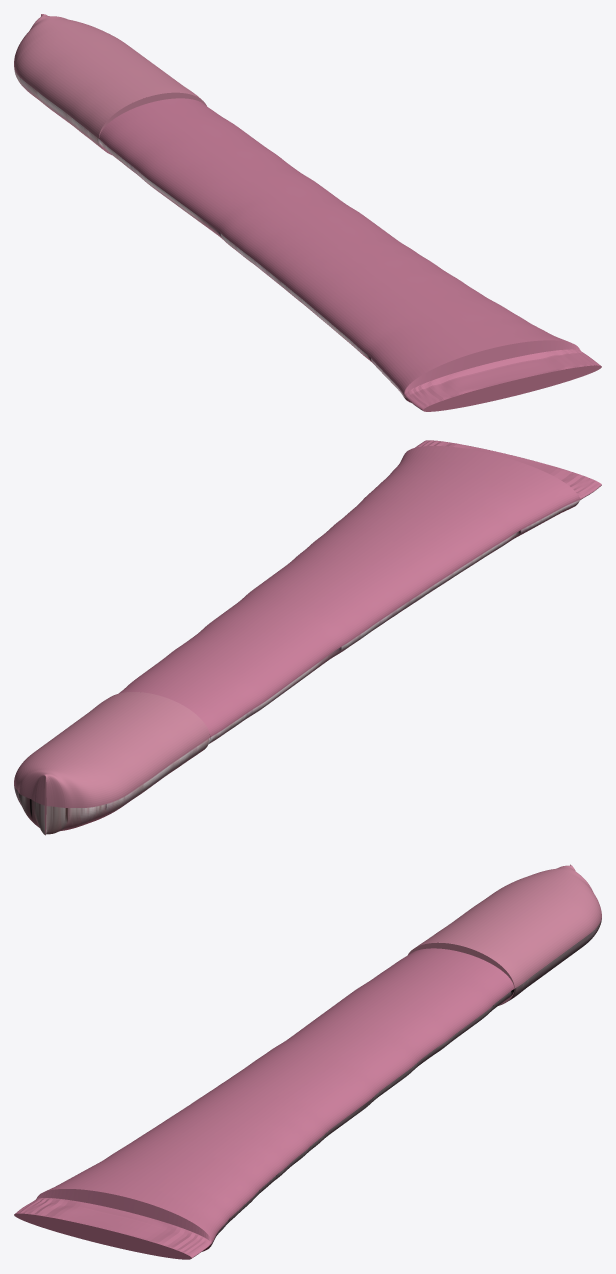
The model's file is rhode_peptide_lip_tint_3d.glb.
3 views of the same model, one above another, from view 1: azimuth 30°, elevation 25°; view 2: azimuth 150°, elevation 25°; view 3: azimuth 330°, elevation 25° (orthographic).
Visible parts, largest first — view 1: tube_reverse, cap_reverse, tube_top_closure, tube_front_photo, cap_front_photo, cap_top_closure; view 2: tube_reverse, cap_reverse, cap_front_photo, tube_front_photo; view 3: tube_reverse, cap_reverse, tube_top_closure, tube_front_photo, cap_front_photo, cap_top_closure.
Part boxes in pixels (x1,y1,x2,y2): tube_reverse: (99,98,600,410); cap_reverse: (14,14,200,138); tube_top_closure: (423,365,601,411); tube_front_photo: (99,139,594,410); cap_front_photo: (14,69,102,149); cap_top_closure: (99,92,206,154); tube_reverse: (119,440,601,737); cap_reverse: (14,692,209,807); cap_front_photo: (14,738,209,835); tube_front_photo: (209,485,601,743); tube_reverse: (15,948,514,1257); cap_reverse: (417,864,601,988); tube_top_closure: (14,1213,191,1259); tube_front_photo: (36,989,514,1257); cap_front_photo: (439,918,601,1000); cap_top_closure: (408,942,514,1005).
Bounding box in the file's own units: 0.0323 × 0.0103 × 0.1462.
5 materials, 2 textured.
